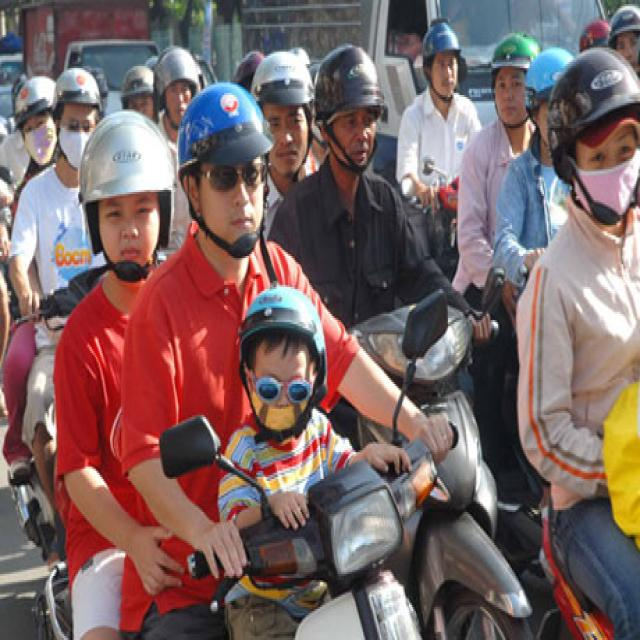1-2-helmet: (175, 80, 280, 183), (239, 281, 331, 370)
3-4-helmet: (77, 106, 177, 258)
